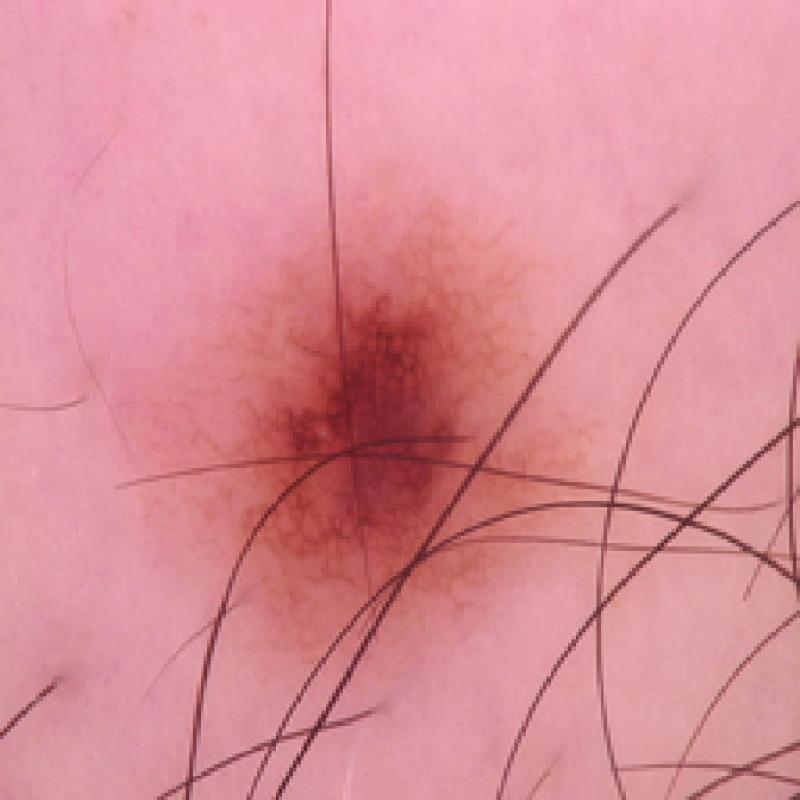benign: (198, 200, 584, 657)
